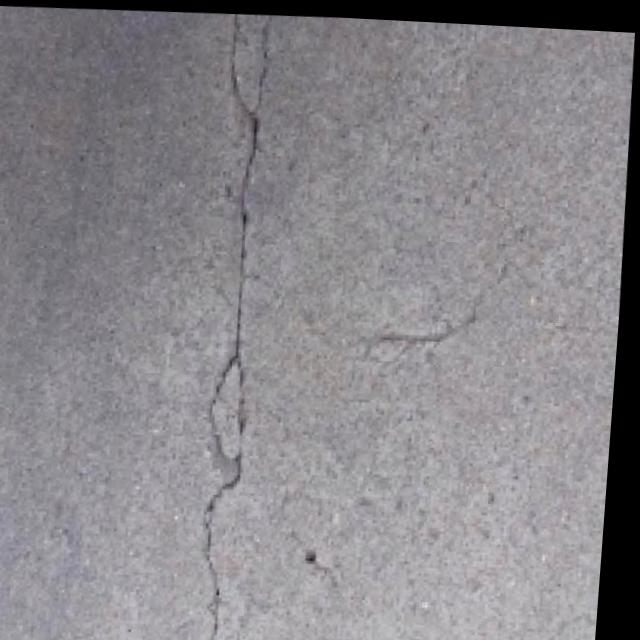Crack: (143, 7, 319, 640)
